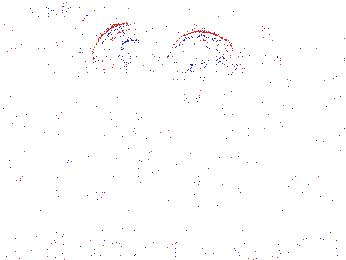moon jellyfish: (164, 31, 236, 90), (4, 1, 103, 43), (91, 22, 153, 89), (1, 12, 62, 80), (225, 54, 301, 108), (251, 12, 324, 64)
